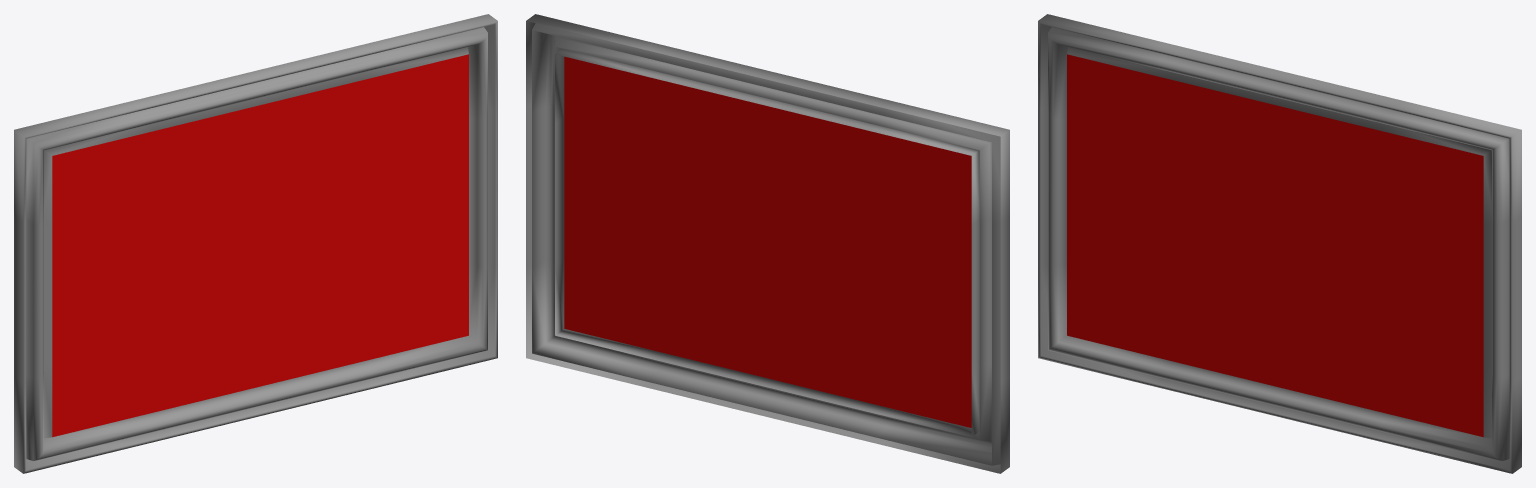
File: Painting.FBX
3 renders of one model, left to right at view 1: azimuth 30°, elevation 25°; view 2: azimuth 150°, elevation 25°; view 3: azimuth 330°, elevation 25°, orthographic.
Visible parts, largest first — view 1: Plane001, Plane002; view 2: Plane001, Plane002; view 3: Plane001, Plane002.
Part boxes in pixels (left/top/right/bottom): Plane001: left=52, top=54, right=468, bottom=437; Plane002: left=14, top=14, right=497, bottom=473; Plane001: left=564, top=56, right=971, bottom=427; Plane002: left=526, top=14, right=1009, bottom=473; Plane001: left=1067, top=54, right=1483, bottom=437; Plane002: left=1038, top=14, right=1521, bottom=473.
Size of the model in its own units: 210 by 142 by 9.76.
